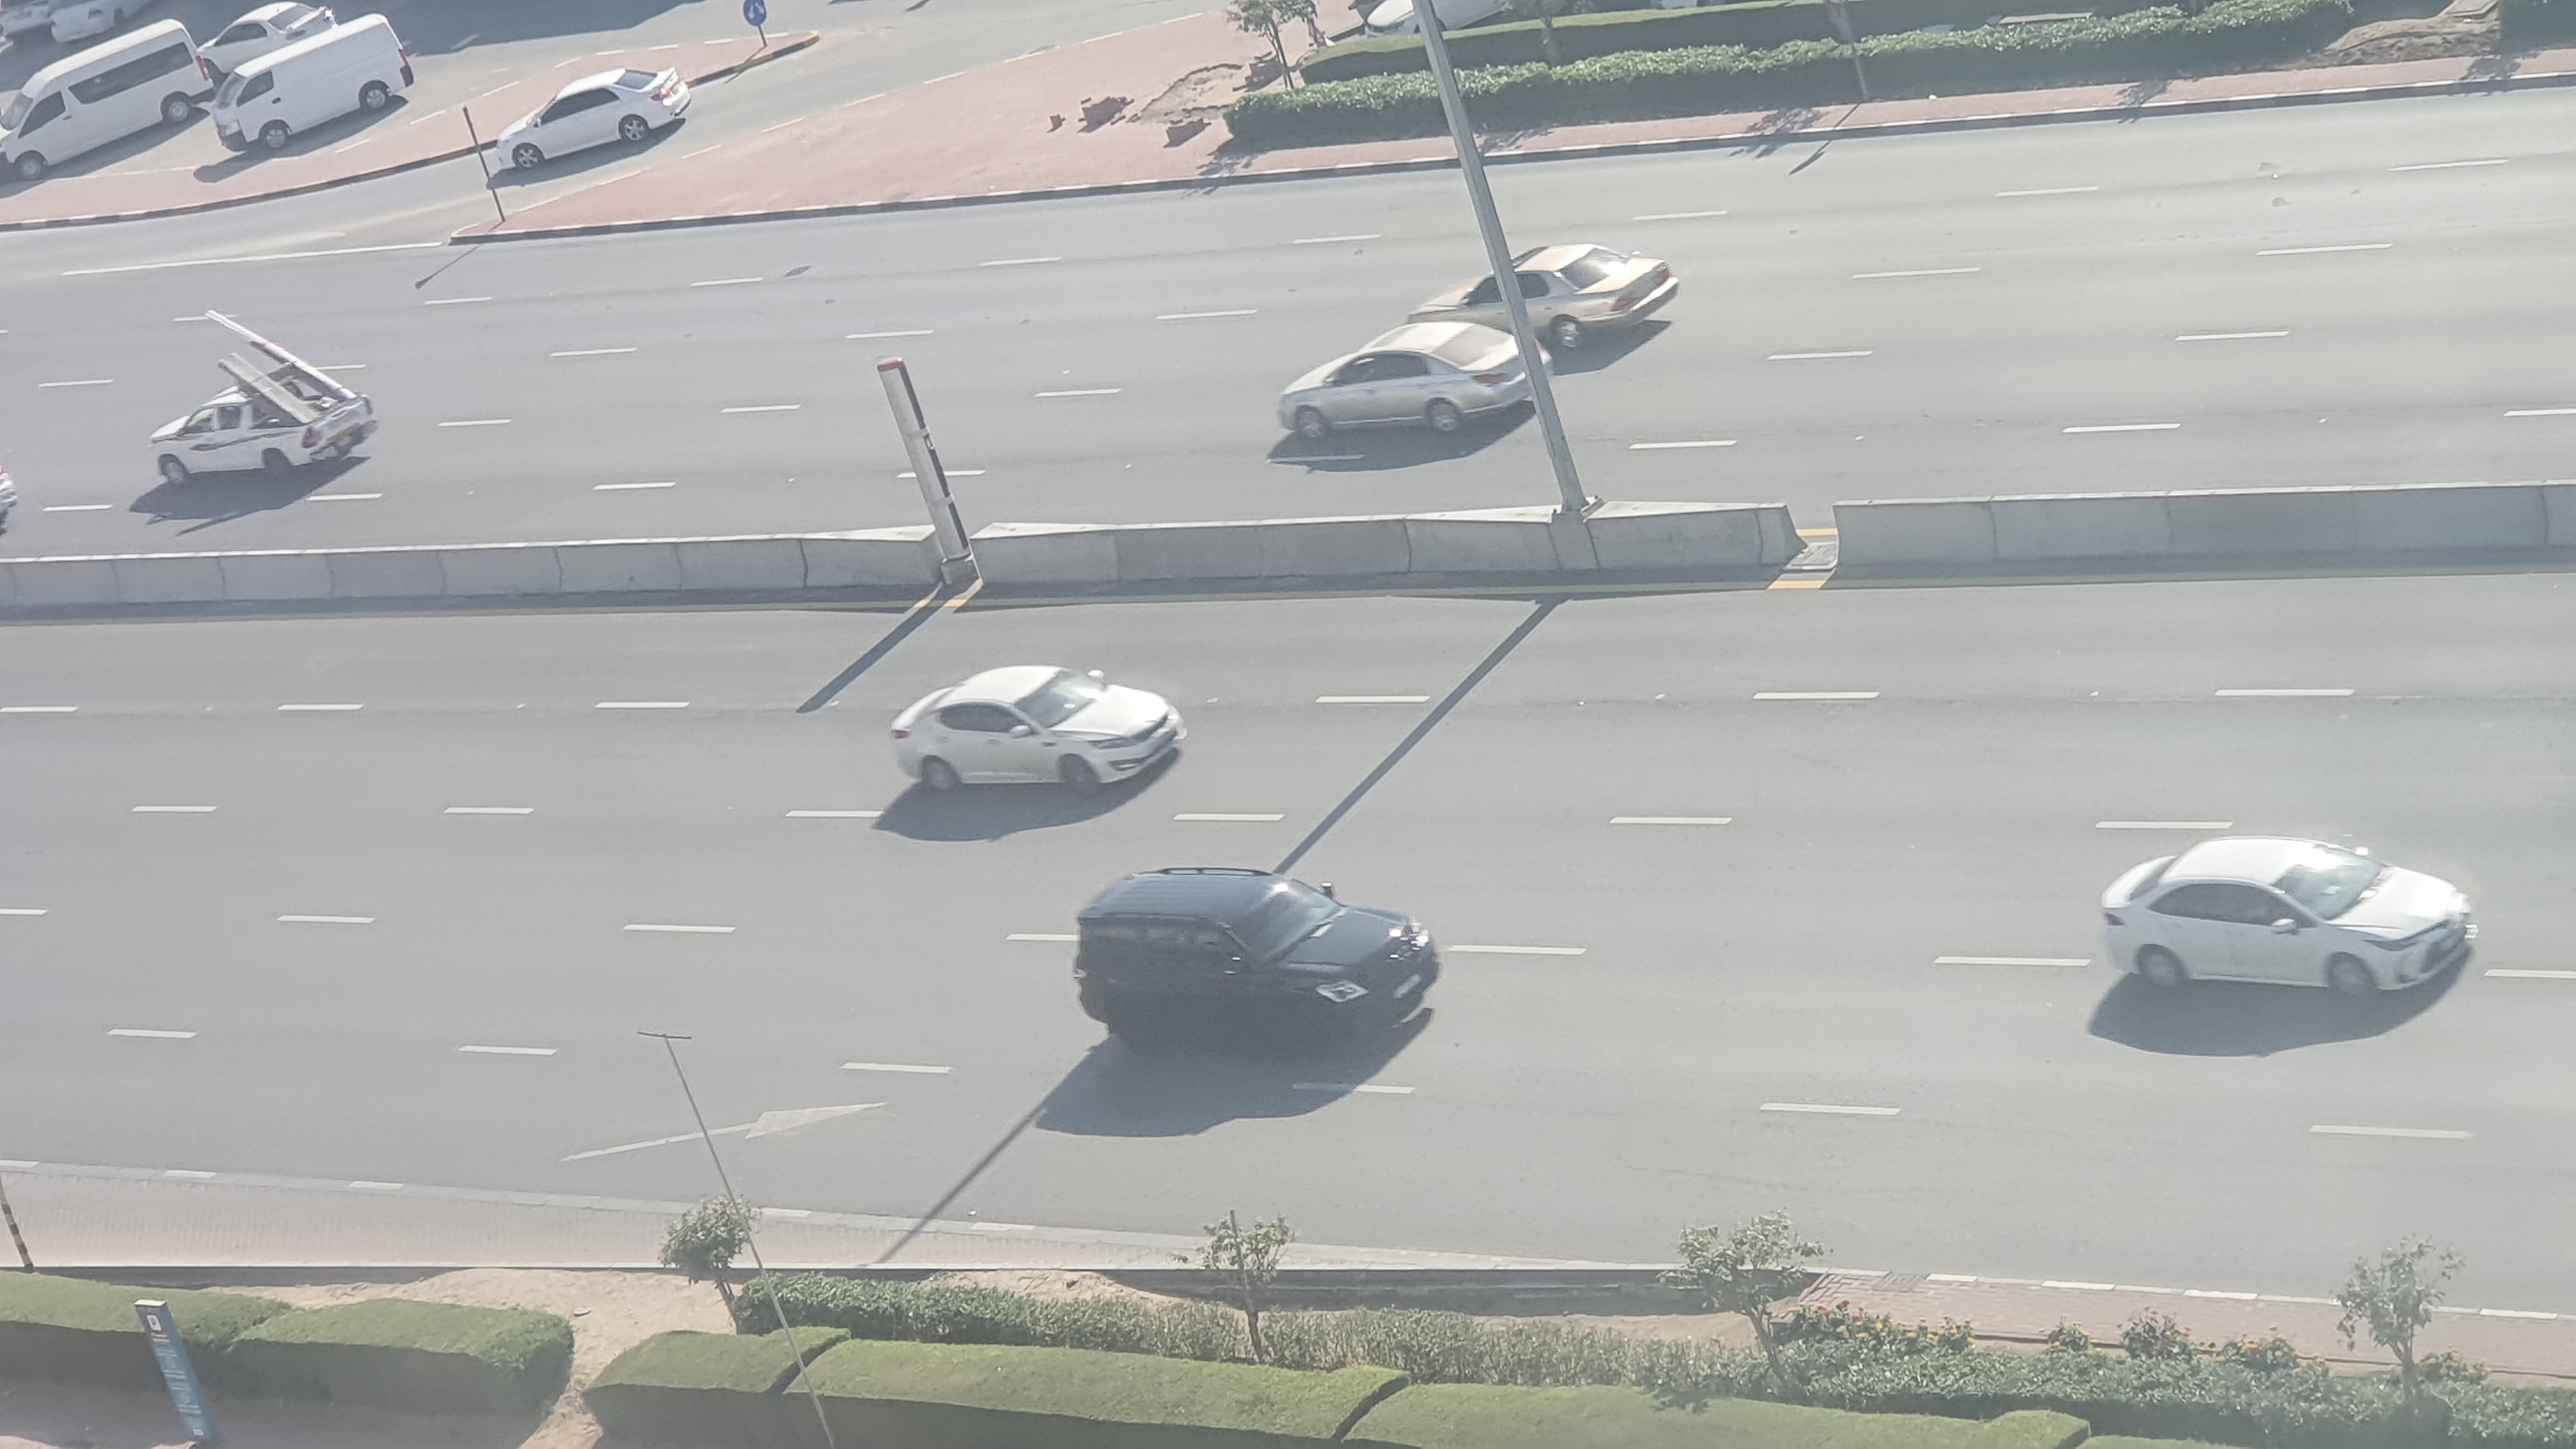NotSunroof: (1072, 865, 1442, 1065), (2097, 821, 2477, 1003), (886, 662, 1189, 793)
